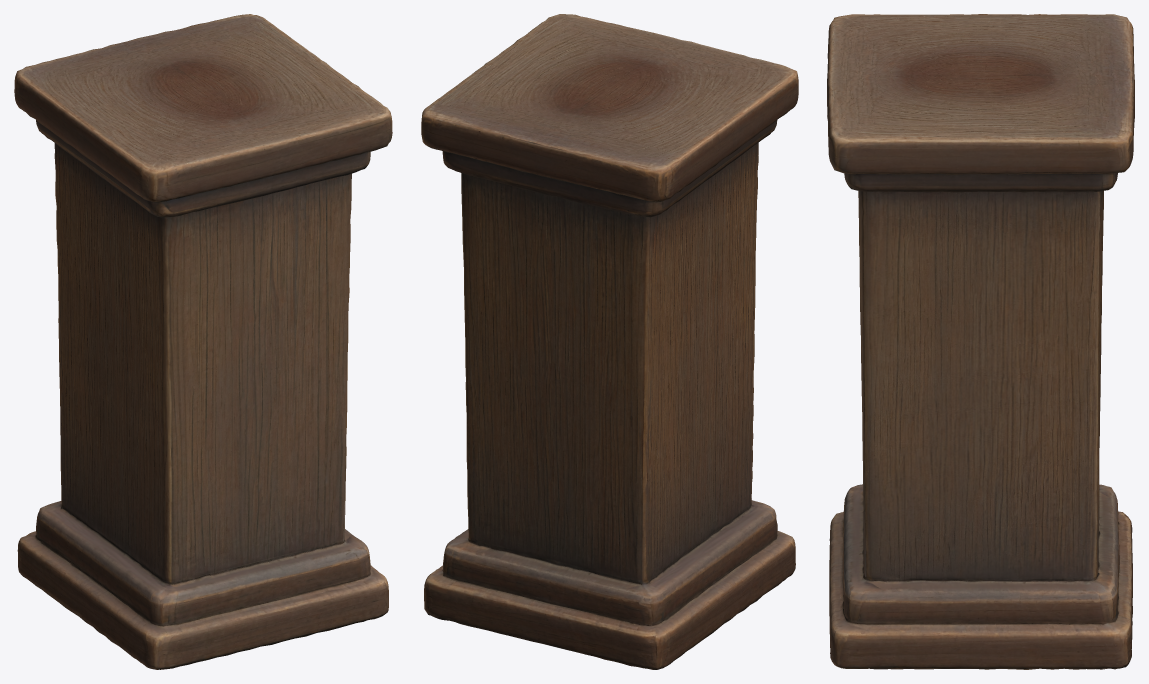
Rendered from Furn_NotePedestal.fbx.
The picture shows the model from 3 angles, left to right: view 1: azimuth 30°, elevation 25°; view 2: azimuth 150°, elevation 25°; view 3: azimuth 270°, elevation 25°; orthographic projection. The views are drawn at different scales.
Visible parts, largest first — view 1: texture_mapping; view 2: texture_mapping; view 3: texture_mapping.
Boxes of the visible parts, left/top/right/bottom form: texture_mapping: left=14, top=14, right=392, bottom=669; texture_mapping: left=421, top=14, right=798, bottom=669; texture_mapping: left=827, top=14, right=1134, bottom=669.
Size of the model in its own units: 0.519 by 0.5227 by 1.
Materials: 1 (1 with a texture image).
